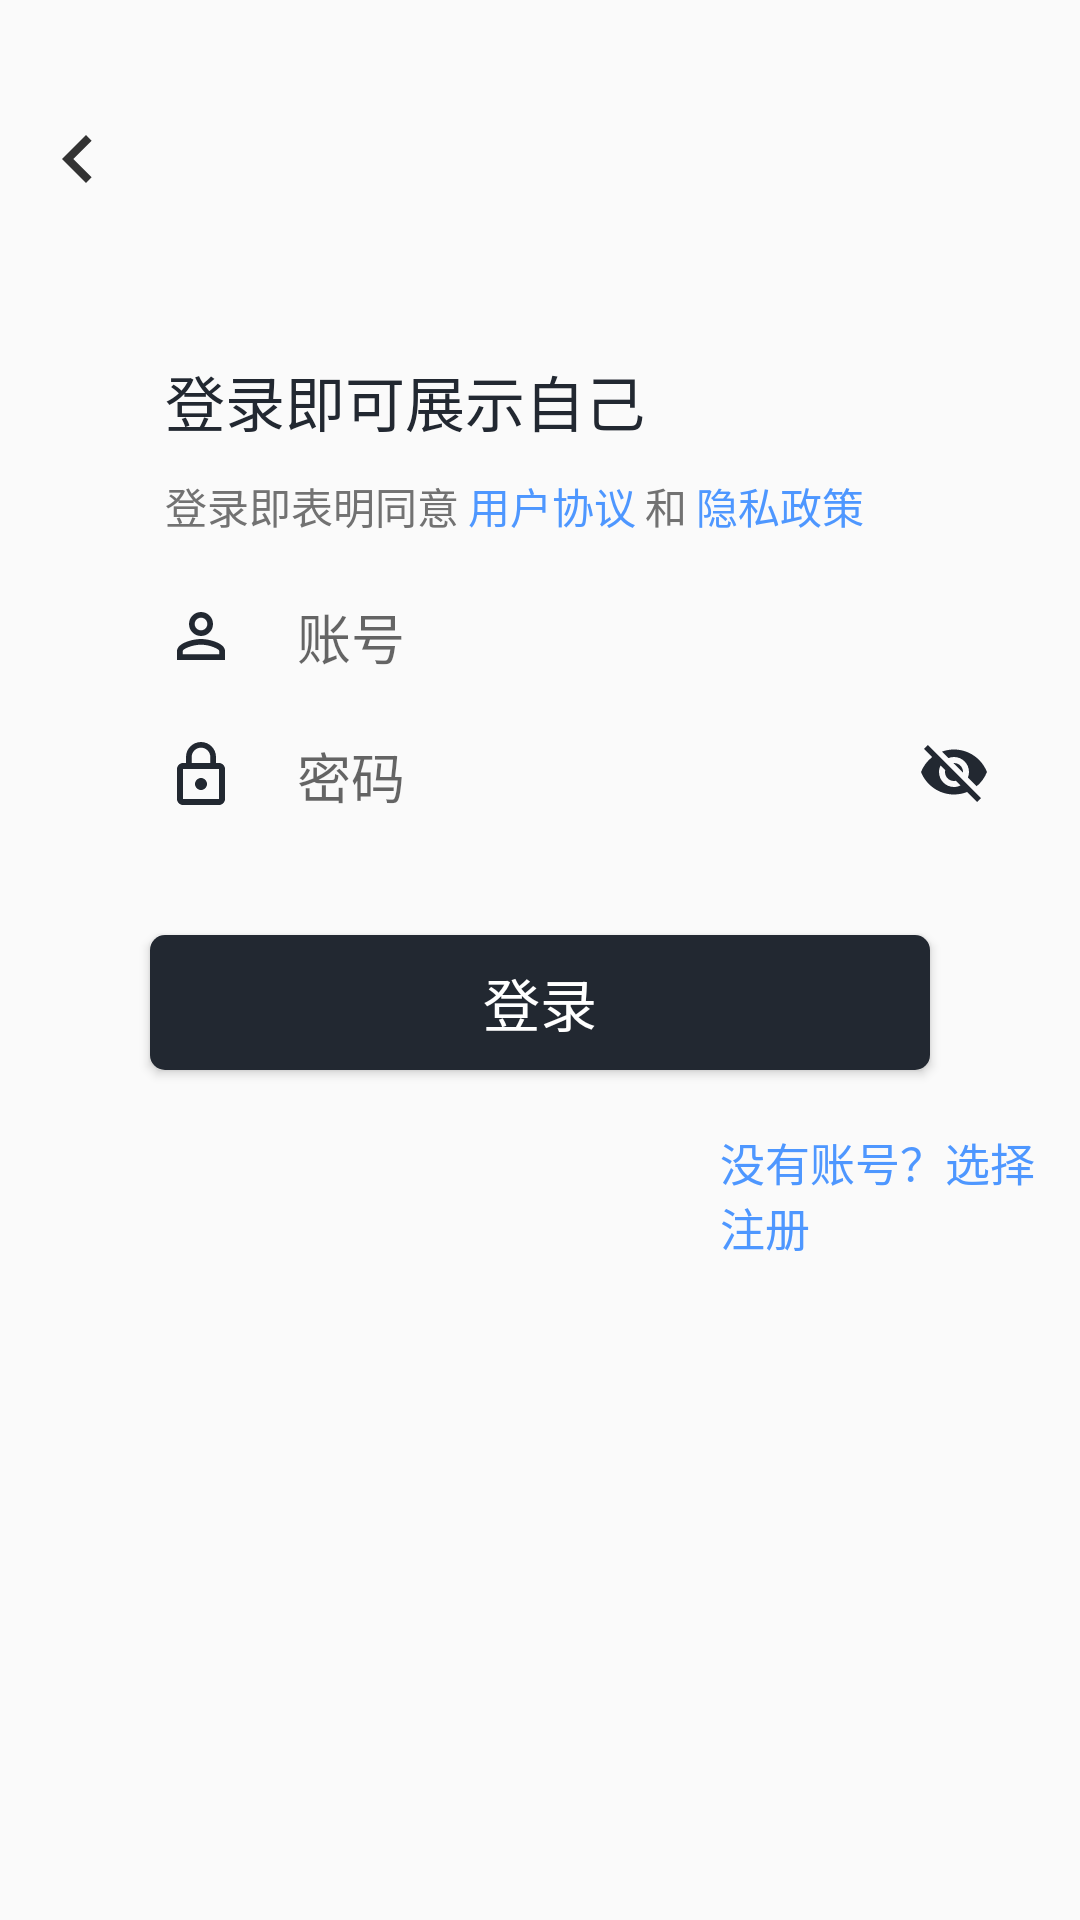

Screen size 1080*1920. Icon name, then its box in pixels as [left=x1, top=y1, right=x2, bottom=y2]:
navigate before: [left=62, top=135, right=92, bottom=183]
visibility off: [left=921, top=745, right=987, bottom=802]
